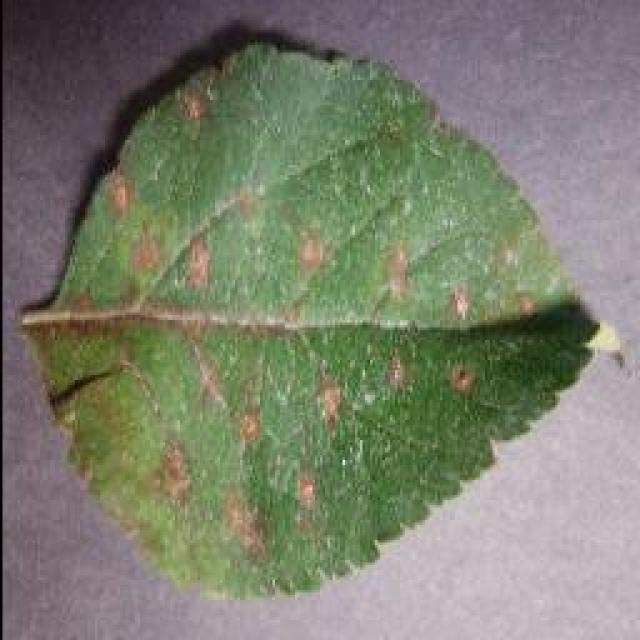apple healthy: (18, 35, 622, 603)
